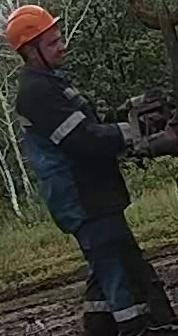helmet: (4, 4, 60, 51)
vest: (13, 70, 130, 208)
